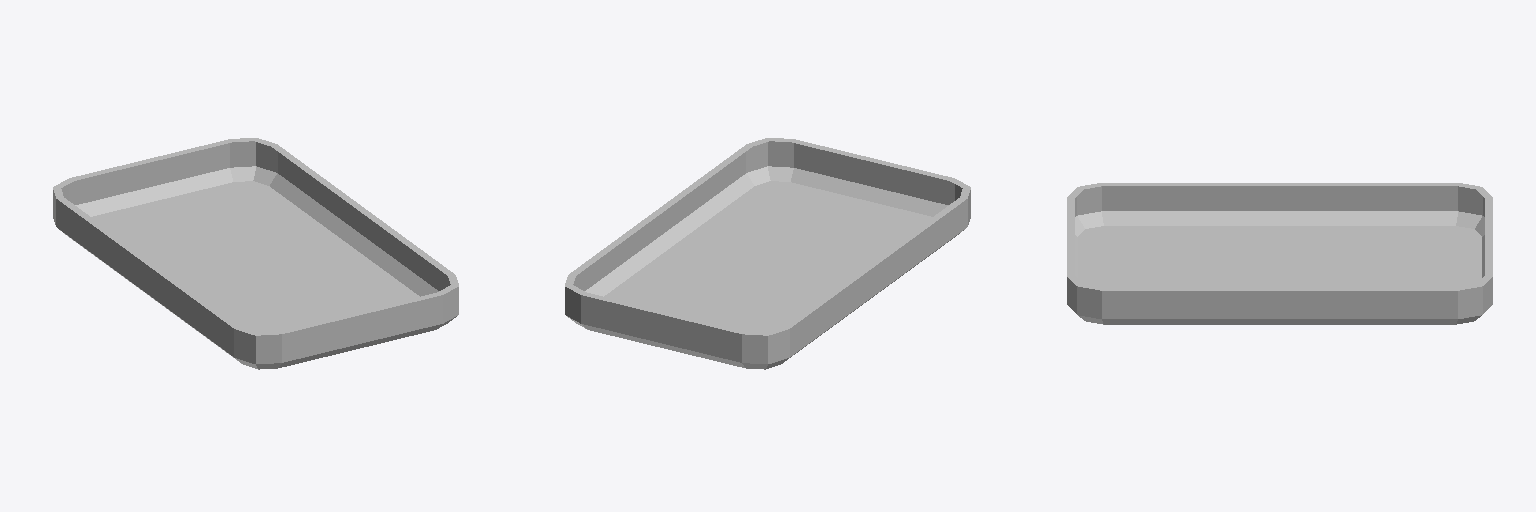
The model's file is phone_case.obj.
The picture shows the model from 3 angles: view 1: azimuth 30°, elevation 25°; view 2: azimuth 150°, elevation 25°; view 3: azimuth 270°, elevation 25°; orthographic projection.
Visible parts, largest first — view 1: Case; view 2: Case; view 3: Case.
Part boxes in pixels (bbox=[...]): Case: bbox=[53, 138, 458, 369]; Case: bbox=[565, 138, 970, 369]; Case: bbox=[1067, 183, 1492, 324].
Bounding box in the file's own units: 1.2 × 0.2 × 2.